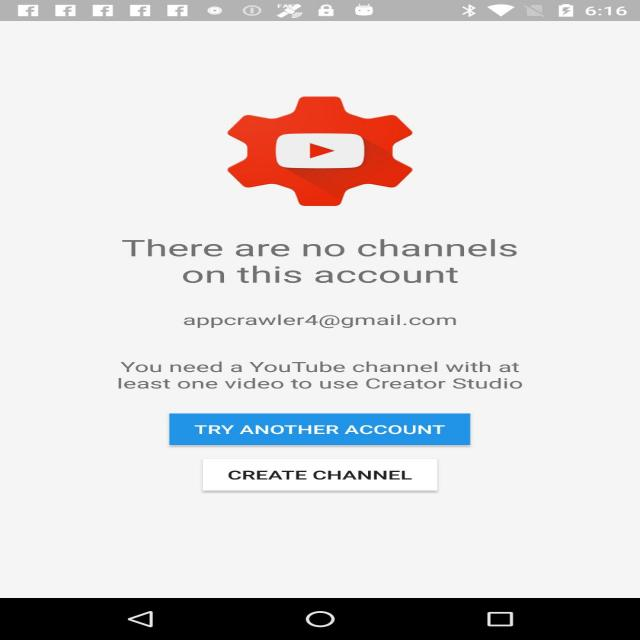button: (134, 385, 466, 445), (133, 453, 556, 499)
image: (158, 75, 478, 205)
text: (41, 215, 640, 302), (109, 345, 578, 410), (173, 304, 508, 343)
